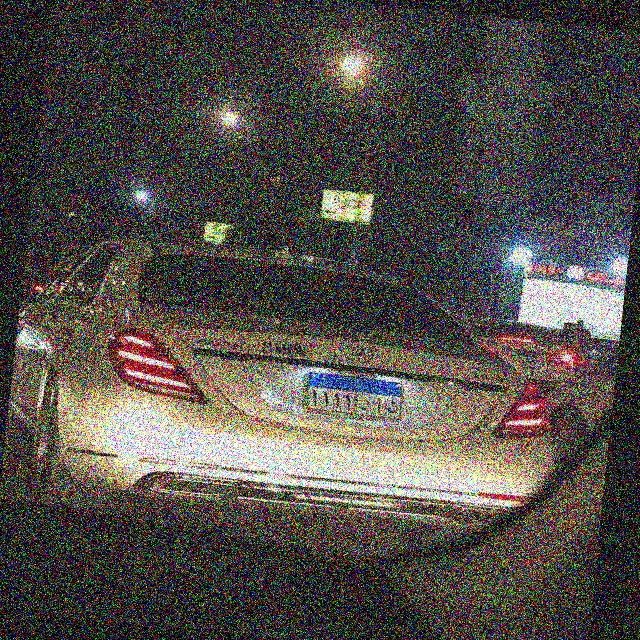License Plate: (302, 369, 408, 422)
